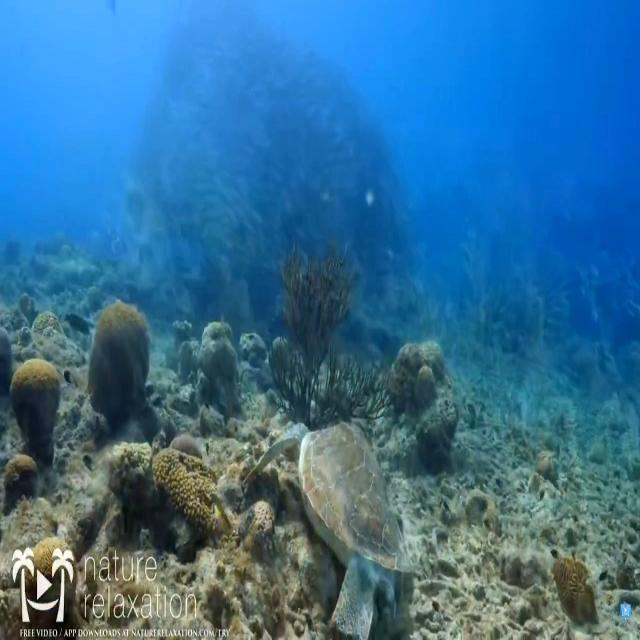Sea turtle: (244, 417, 414, 640)
